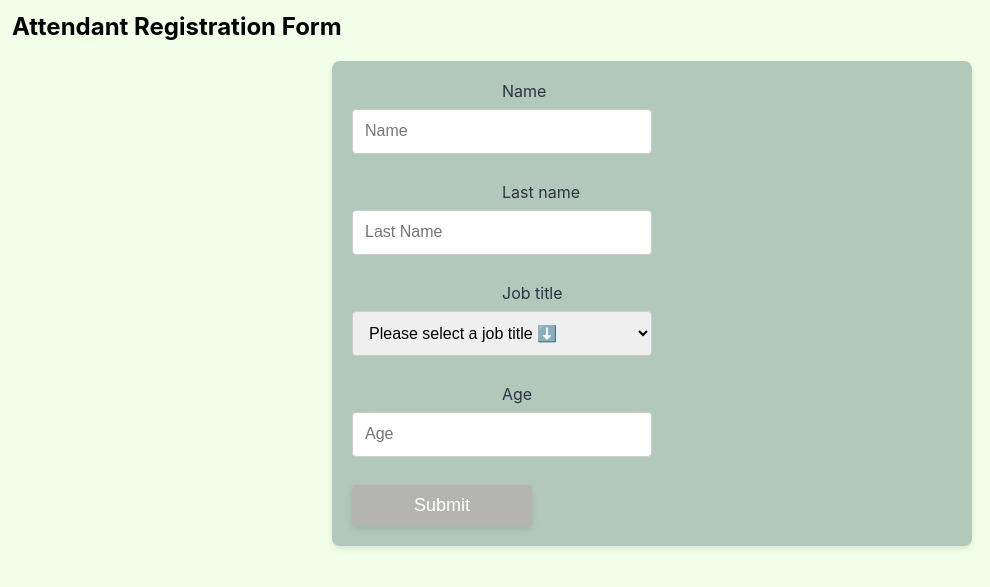
Test case: <AttendantForm /> › shows validation error for empty job title when clicking outside
Click the dropdown with test id "job-title": (502, 333) [352,311,652,356]
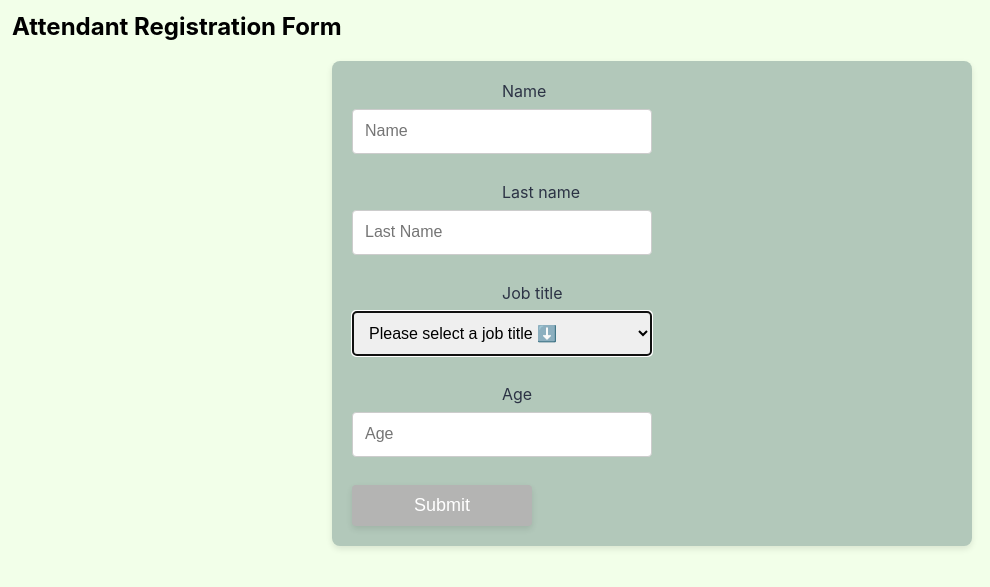
Click the field with placeholder "Name": (502, 131) [352,109,652,154]
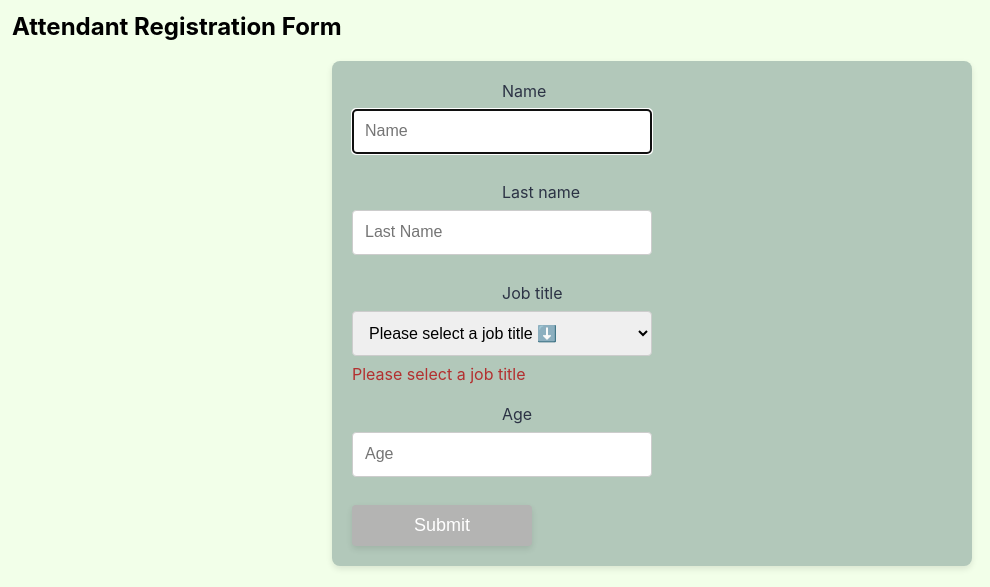
Check: the button "Submit" is disabled, box [352,505,532,546]
Check: the text "Please select a job title" is shown, box [352,364,526,384]
